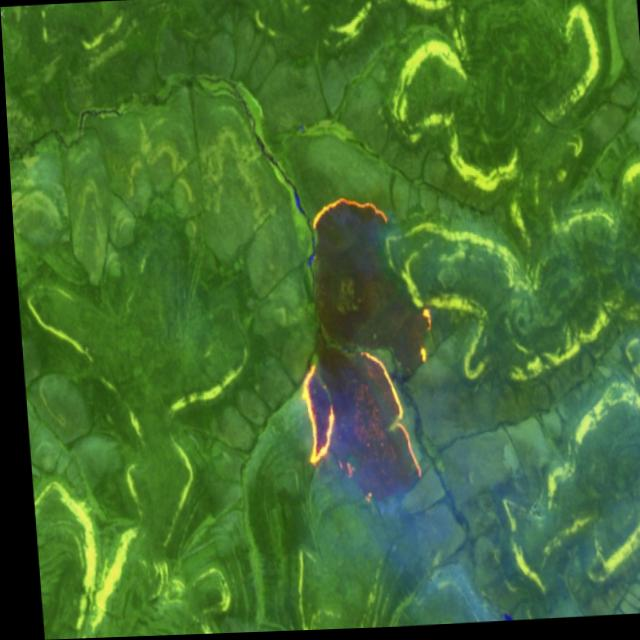fire: (278, 188, 437, 484)
